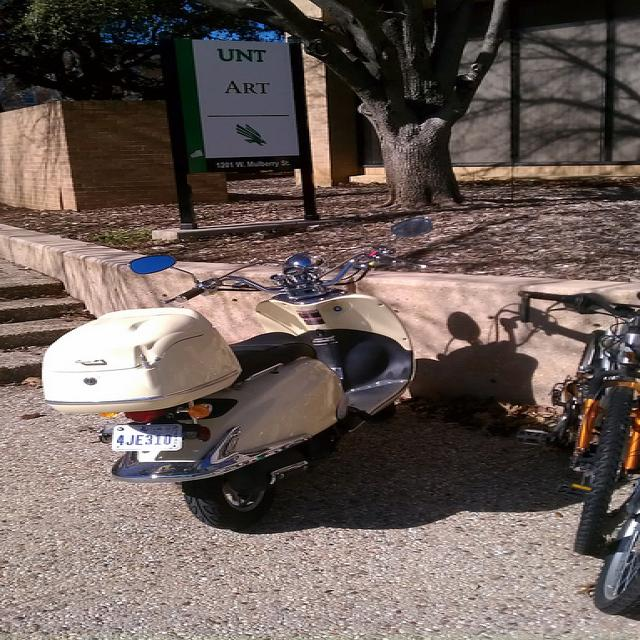motor: (43, 218, 438, 530)
